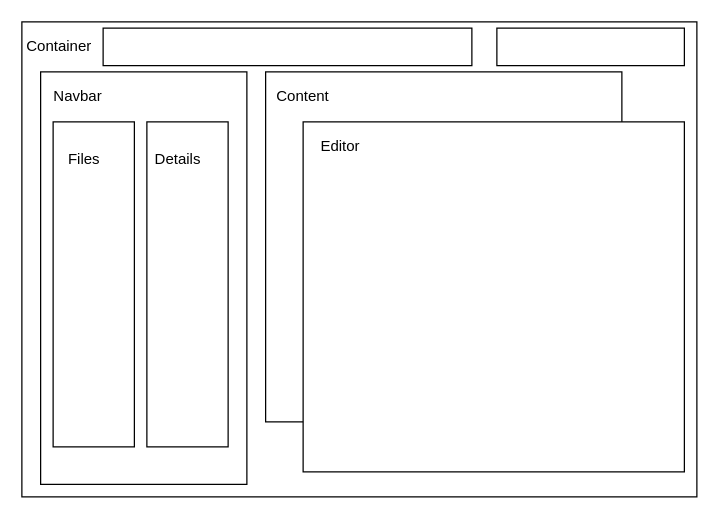
The diagram is 719 pixels wide and 519 high, and some of its shapes have lost their labels. Each missing label, with the centre of its shape:
buttons: the point at 590,46
path: the point at 287,46
